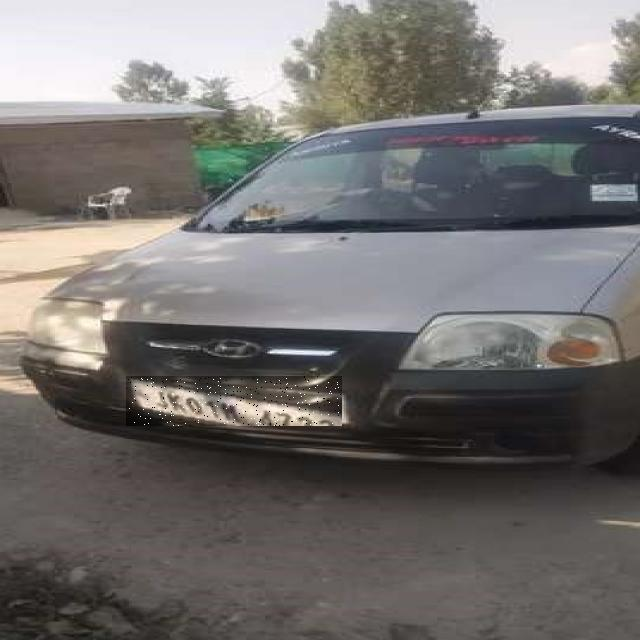Plate: (127, 378, 343, 428)
